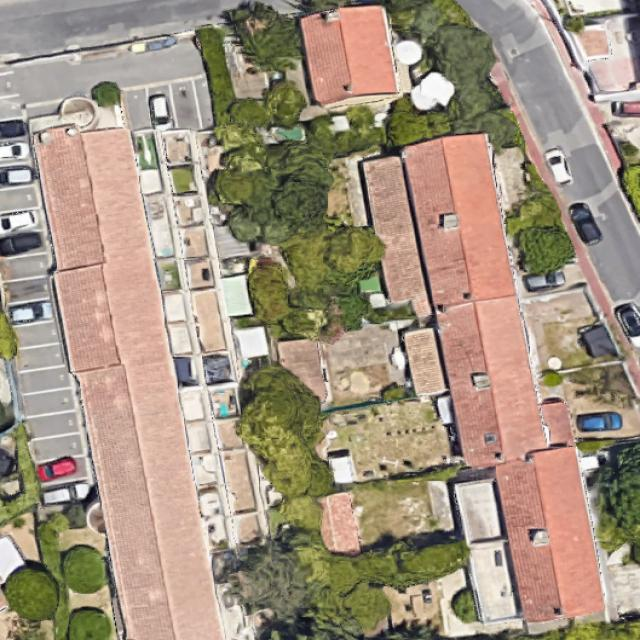maison: (79, 353, 221, 640), (361, 132, 515, 322), (400, 294, 546, 477), (491, 443, 605, 626), (37, 119, 152, 269), (55, 256, 171, 373), (296, 0, 402, 113)
